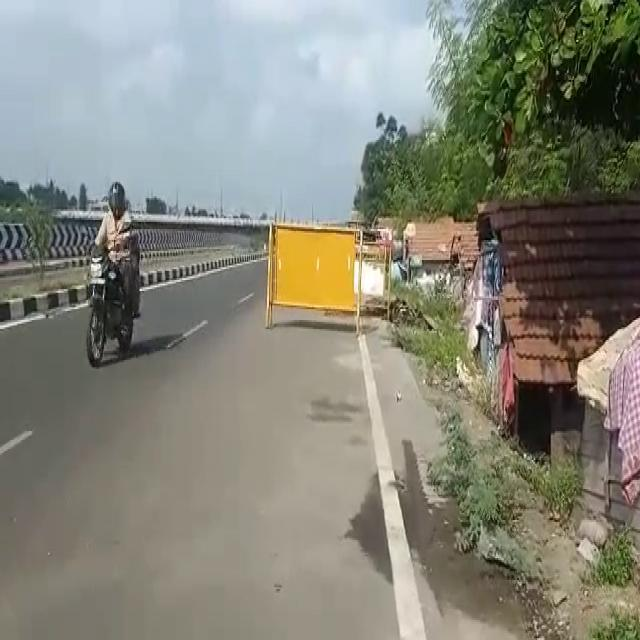fallen_object: (255, 205, 378, 340)
